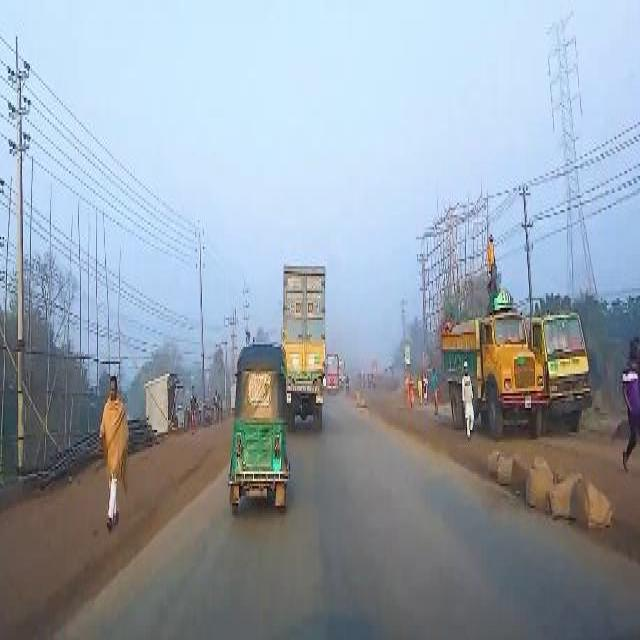bike: (347, 374, 350, 391)
vehicle: (441, 293, 541, 432), (233, 337, 287, 503), (282, 258, 326, 429), (532, 307, 593, 429), (328, 351, 339, 390), (339, 357, 345, 384)
